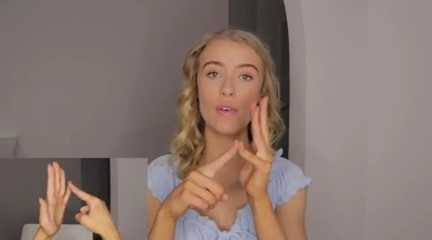U: (168, 93, 291, 219), (33, 161, 110, 236)
